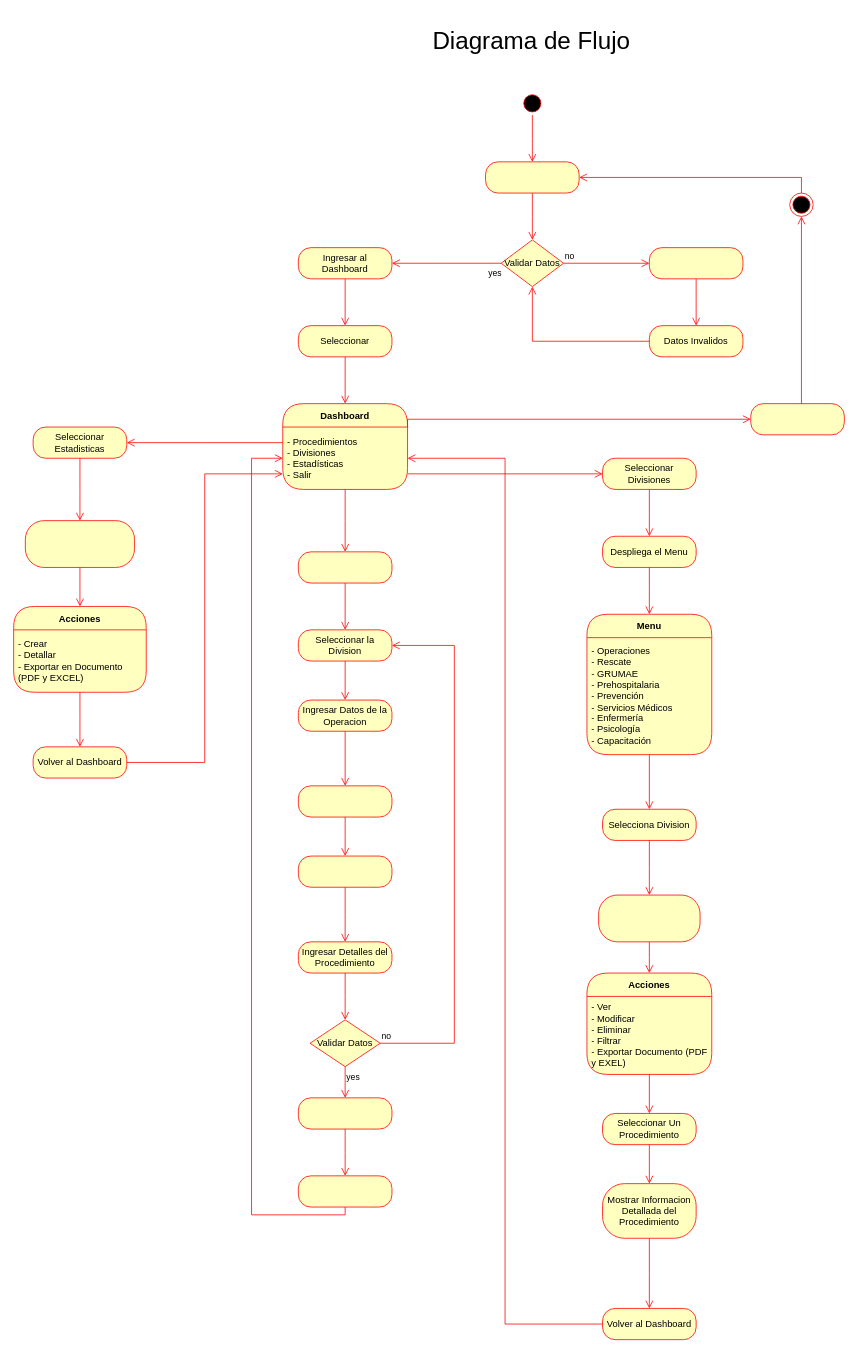
This 858x1353 diagram has some shape labels left out. The shapes that lost their labels are listed below. From the top down, each one's centre as x and y in pixels, then its label:
At (x=532, y=177): "Ingresar al Sistema".
At (x=696, y=263): "Ventana Emergente".
At (x=797, y=419): "Cerrar Sesion".
At (x=80, y=543): "Visualizar Gráficos e Información".
At (x=345, y=567): "Seleccionar Procedimientos".
At (x=345, y=801): "Ingresar Datos de la Ubicación".
At (x=345, y=871): "Seleccionar Tipo de Procedimiento".
At (x=649, y=918): "Despliega Listado Procedimientos".
At (x=345, y=1113): "Cargar a la Base de Datos".
At (x=345, y=1191): "Devolver al Dashboard".
